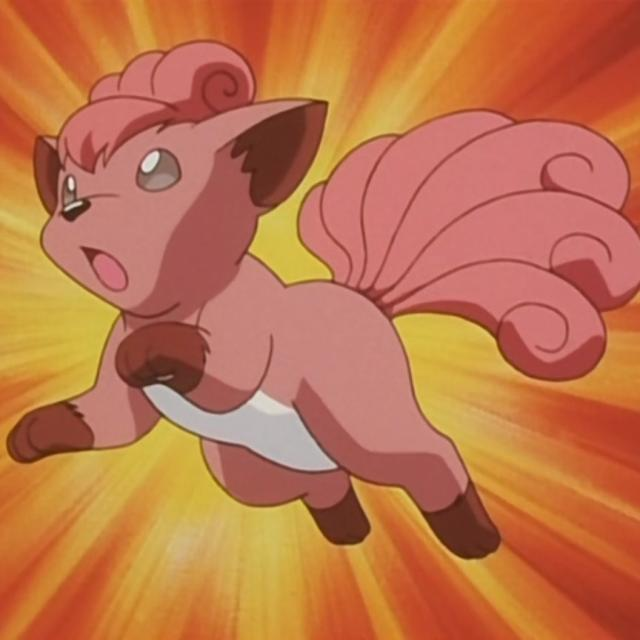Vulpix: (28, 48, 506, 563)
